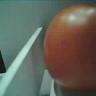tomato: (42, 6, 96, 93)
